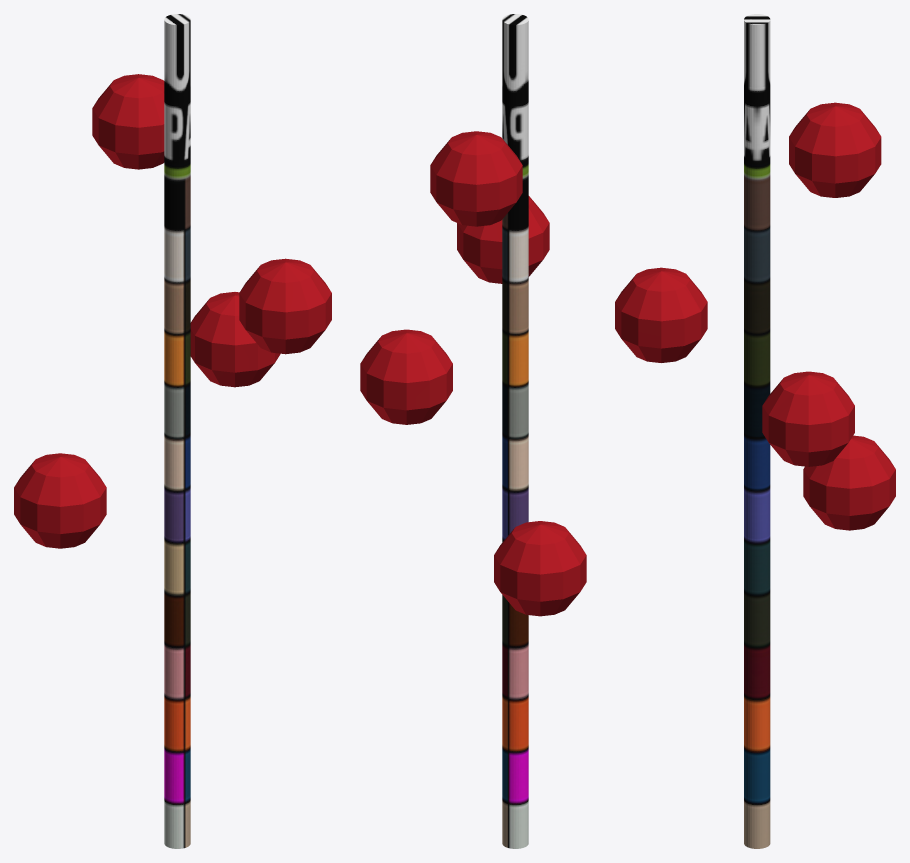
The model's file is TestPlant.fbx.
3 renders of one model, left to right at view 1: azimuth 30°, elevation 25°; view 2: azimuth 150°, elevation 25°; view 3: azimuth 270°, elevation 25°, orthographic.
Parts seen in each view (by area): view 1: Stem, fruit, fruit.001, fruit.002, fruit.003; view 2: Stem, fruit.002, fruit.003, fruit, fruit.001; view 3: Stem, fruit.003, fruit.001, fruit.002, fruit.
Boxes of the visible parts, left/top/right/bottom form: Stem: left=164, top=14, right=190, bottom=848; fruit: left=14, top=453, right=106, bottom=548; fruit.001: left=239, top=258, right=331, bottom=354; fruit.002: left=92, top=74, right=164, bottom=169; fruit.003: left=190, top=292, right=280, bottom=387; Stem: left=502, top=14, right=528, bottom=848; fruit.002: left=430, top=131, right=522, bottom=226; fruit.003: left=360, top=329, right=452, bottom=424; fruit: left=494, top=521, right=586, bottom=616; fruit.001: left=457, top=196, right=549, bottom=283; Stem: left=744, top=14, right=770, bottom=848; fruit.003: left=762, top=371, right=854, bottom=466; fruit.001: left=615, top=267, right=707, bottom=362; fruit.002: left=789, top=102, right=881, bottom=197; fruit: left=803, top=435, right=895, bottom=530.
Bounding box in the file's own units: 128 × 430 × 133.
